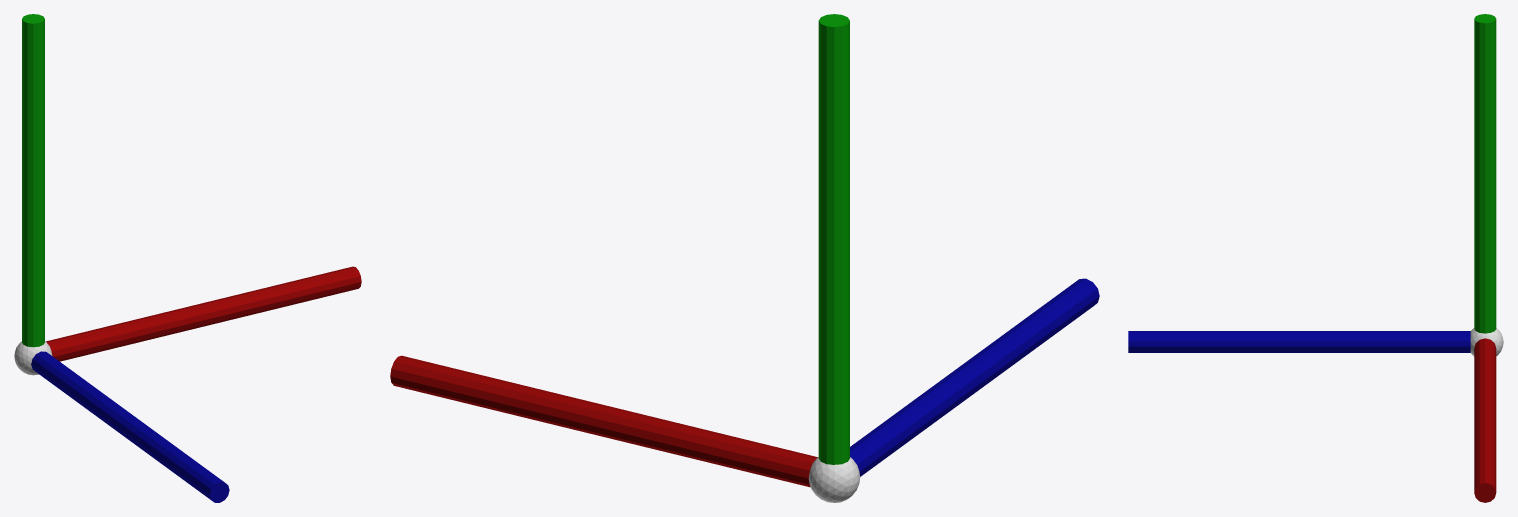
The model's file is axis.obj.
3 views of the same model, side by side, from view 1: azimuth 30°, elevation 25°; view 2: azimuth 150°, elevation 25°; view 3: azimuth 270°, elevation 25° (orthographic). The views are drawn at different scales.
Bounding box in the file's own units: 1.02 × 1.02 × 1.02.
